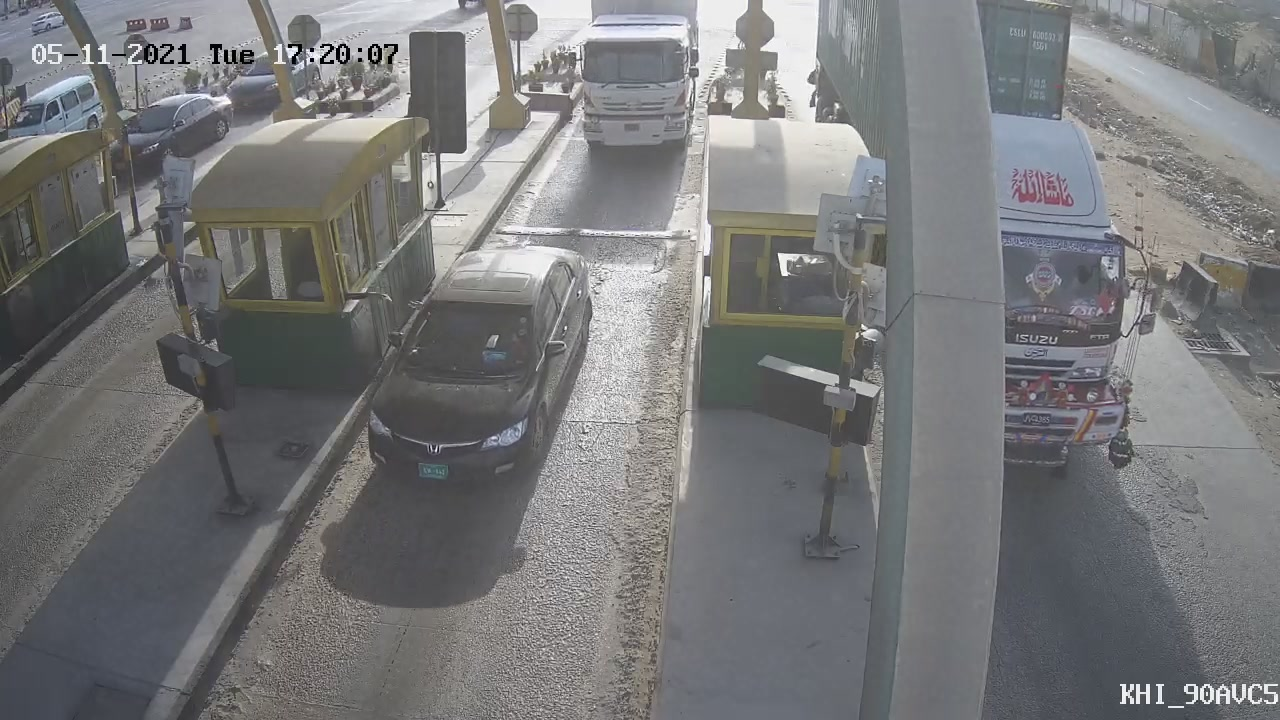F1: (324, 226, 616, 512)
